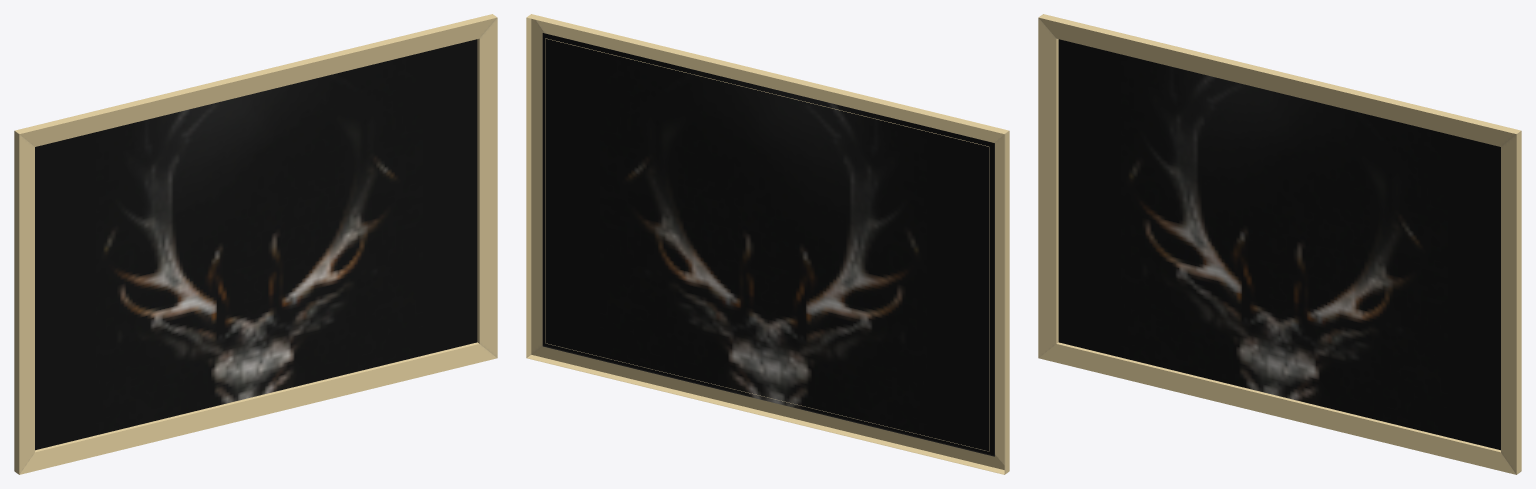
Rendered from Prop_PictureTable_6.fbx.
The picture shows the model from 3 angles, left to right: view 1: azimuth 30°, elevation 25°; view 2: azimuth 150°, elevation 25°; view 3: azimuth 330°, elevation 25°; orthographic projection.
Parts seen in each view (by area): view 1: Prop_PictureTable_6; view 2: Prop_PictureTable_6; view 3: Prop_PictureTable_6.
Part boxes in pixels (box(x1,y1,x2,y2)): Prop_PictureTable_6: box(14, 14, 497, 474); Prop_PictureTable_6: box(526, 14, 1009, 474); Prop_PictureTable_6: box(1038, 14, 1521, 474).
Bounding box in the file's own units: 34.09 × 23.21 × 0.6042.
